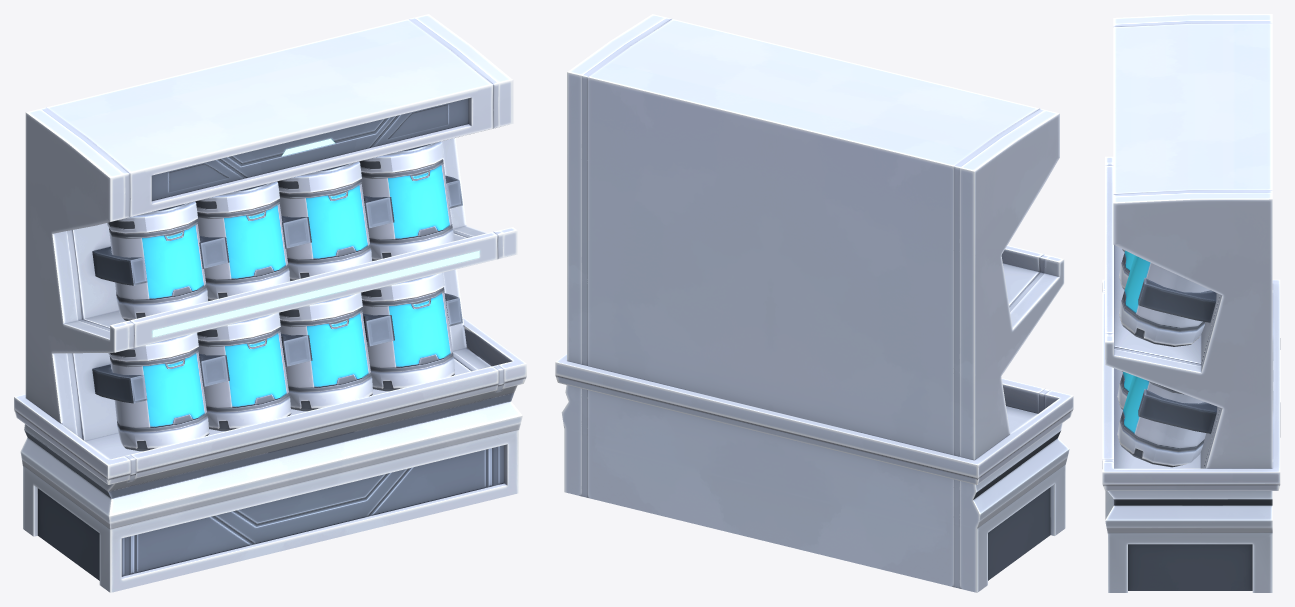
Rendered from obj_lab05.gltf.
The picture shows the model from 3 angles, left to right: view 1: azimuth 30°, elevation 25°; view 2: azimuth 150°, elevation 25°; view 3: azimuth 270°, elevation 25°; orthographic projection. The views are drawn at different scales.
Parts seen in each view (by area): view 1: obj_lab05; view 2: obj_lab05; view 3: obj_lab05.
Boxes of the visible parts, x1,y1,x2,y2 form: obj_lab05: (14,14,526,592); obj_lab05: (555,14,1073,592); obj_lab05: (1102,14,1280,592).
Size of what is drawn, in the model's own units: 2.6 by 2.46 by 1.01.
Materials: 4 (3 with a texture image).
